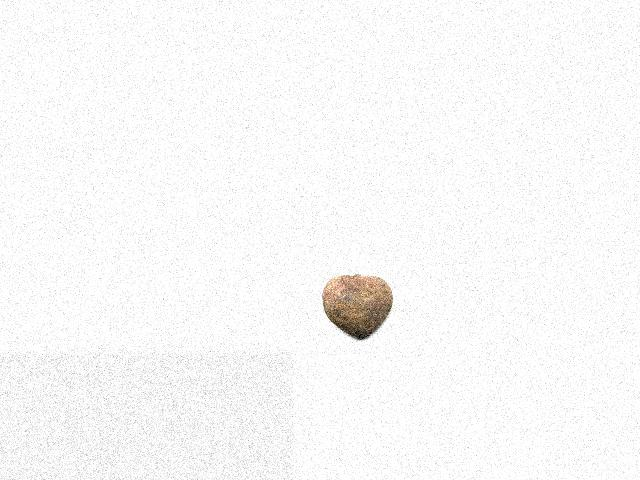beet: (321, 275, 392, 339)
